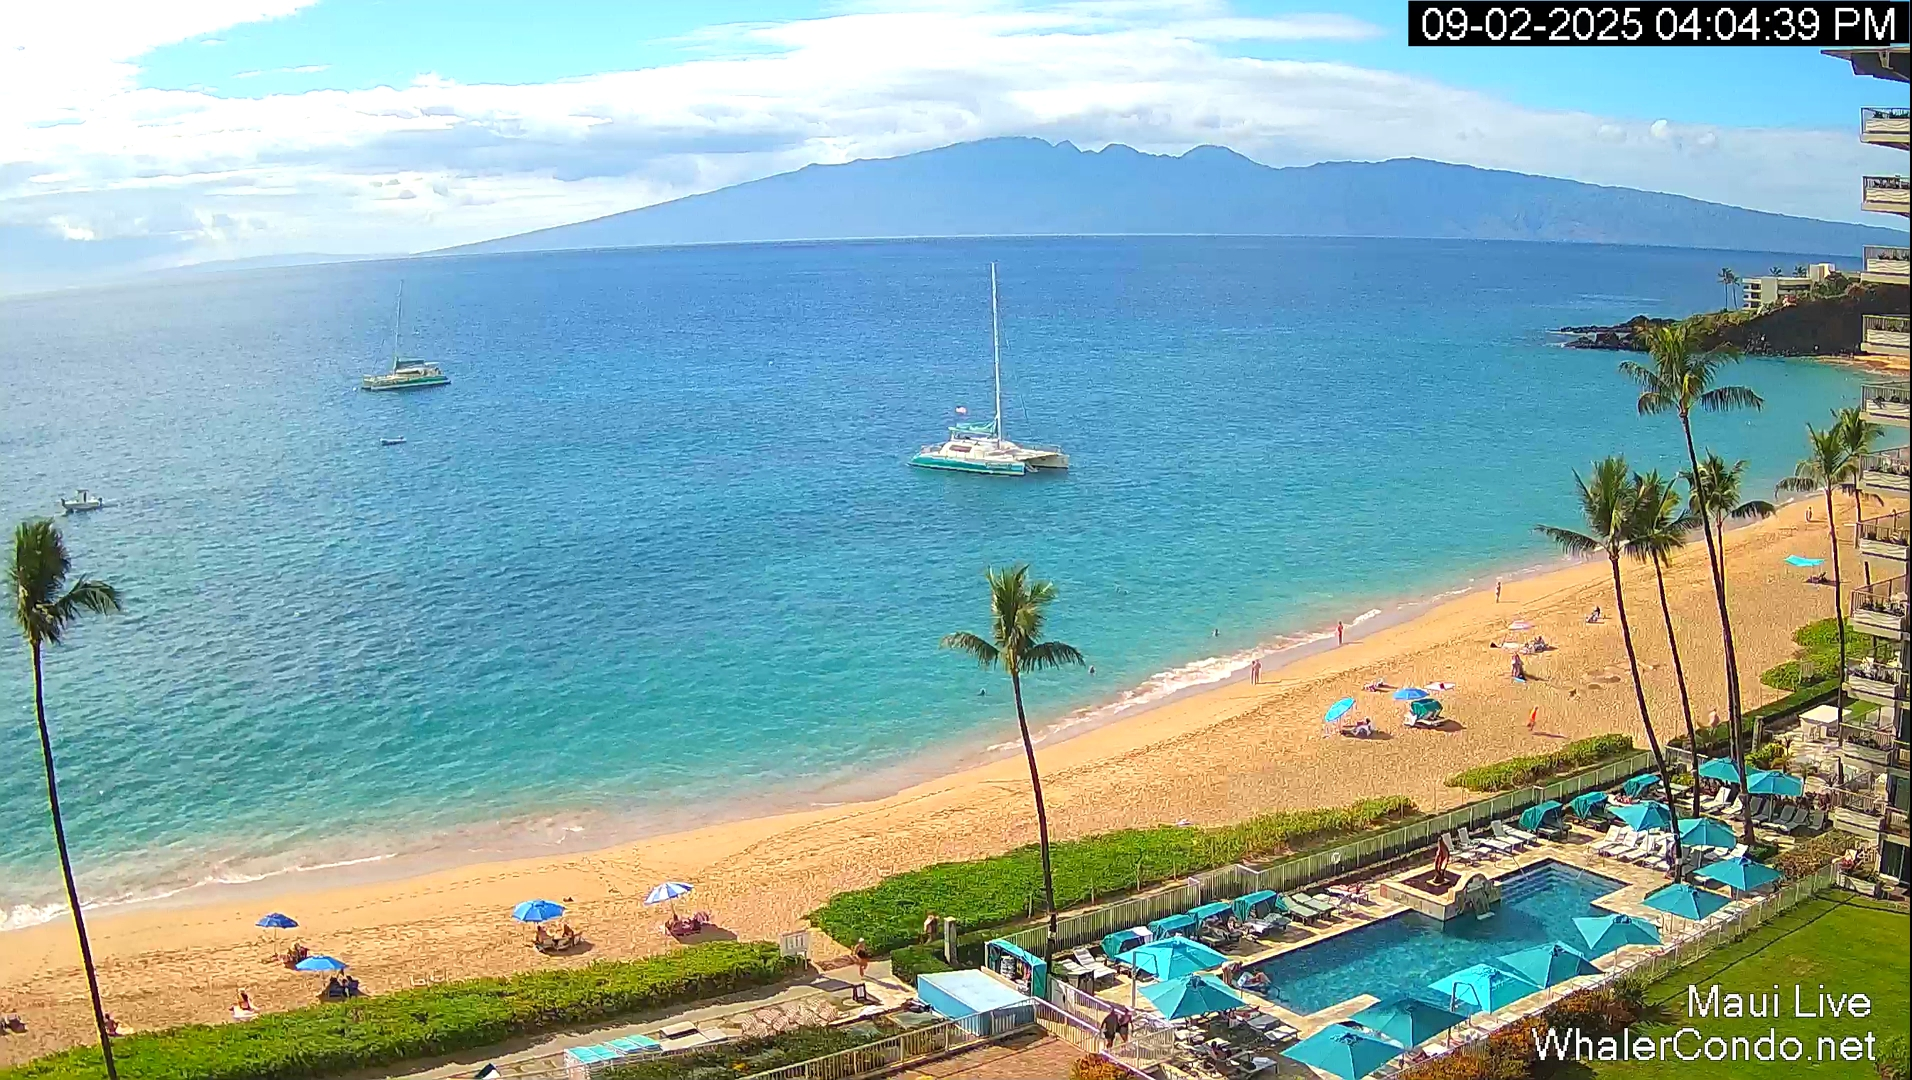boat: (946, 261, 1071, 470), (361, 280, 450, 392), (908, 438, 1026, 477), (1024, 442, 1070, 469), (61, 489, 104, 512)
person: (103, 1012, 135, 1037), (1100, 1008, 1117, 1050), (1117, 1007, 1134, 1046), (237, 988, 261, 1013), (562, 923, 583, 947), (1536, 1023, 1548, 1060), (1353, 717, 1373, 737), (1511, 653, 1524, 678), (1251, 660, 1262, 685), (1117, 1024, 1129, 1045), (536, 925, 548, 944), (562, 923, 575, 937), (1335, 621, 1344, 640), (1495, 581, 1502, 603), (1593, 605, 1601, 622), (1089, 665, 1096, 677)
